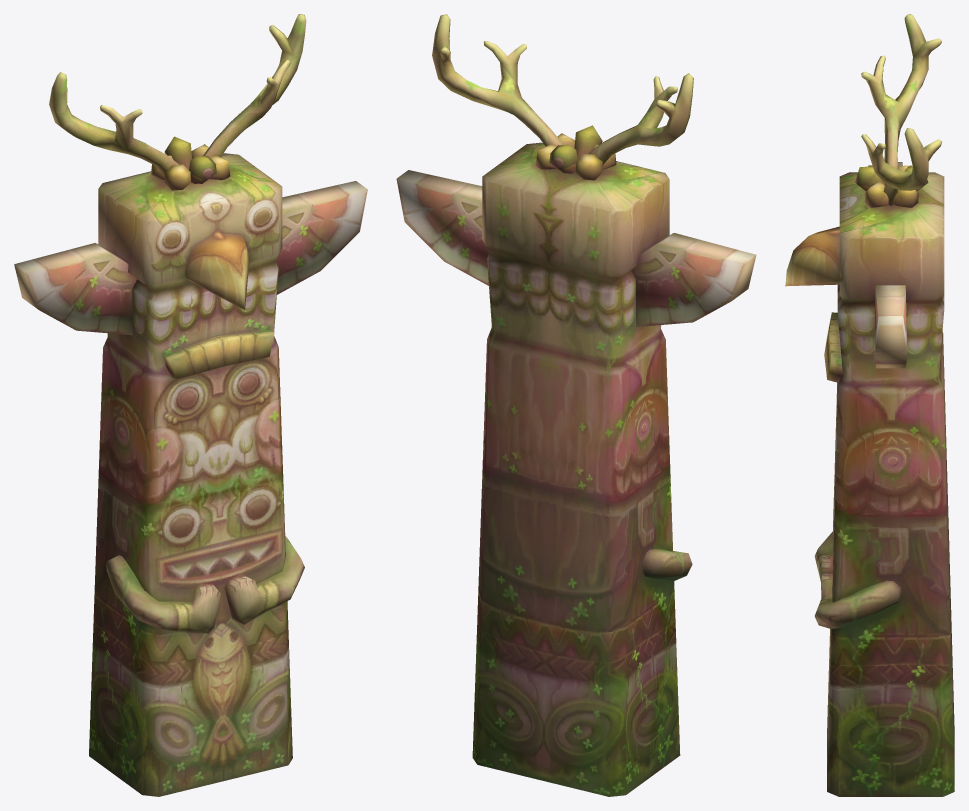
3 views of the same model, side by side, from view 1: azimuth 30°, elevation 25°; view 2: azimuth 150°, elevation 25°; view 3: azimuth 270°, elevation 25° (orthographic). The views are drawn at different scales.
Visible parts, largest first — view 1: element3ds.com-UC420_1; view 2: element3ds.com-UC420_1; view 3: element3ds.com-UC420_1.
Boxes of the visible parts, left/top/right/bottom form: element3ds.com-UC420_1: left=14, top=14, right=367, bottom=796; element3ds.com-UC420_1: left=396, top=14, right=756, bottom=796; element3ds.com-UC420_1: left=785, top=14, right=954, bottom=796.
Size of the model in its own units: 23.56 by 46.54 by 10.35.
